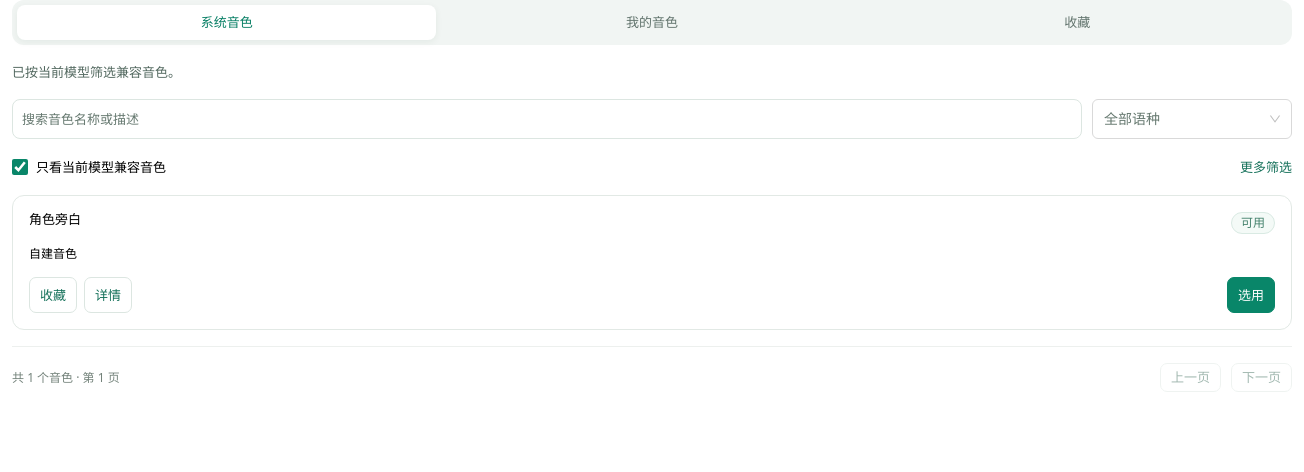
Scenario: 公共音色库业务交互 › 收藏失败保留列表并显示错误，重试成功后收藏分类按后端结果刷新
Click the button with aria-label "收藏 角色旁白".
click(53, 295)  # box [29, 277, 77, 313]
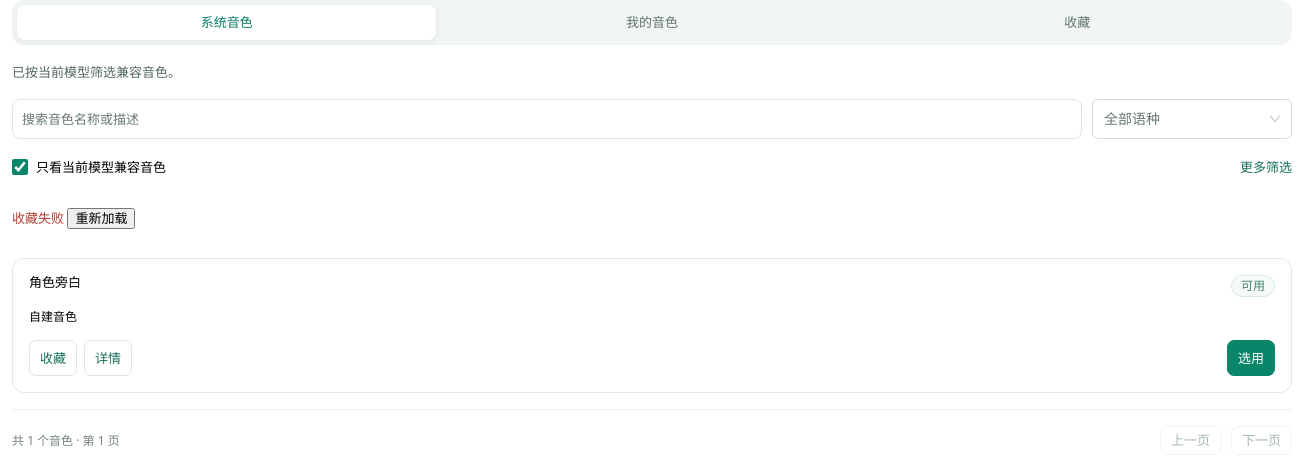
Expected: the button "选用" is shown, [1227, 340, 1275, 376]
Expected: the message shows "收藏失败", [12, 209, 64, 227]
Click the button with aria-label "收藏 角色旁白".
click(53, 358)  # box [29, 340, 77, 376]
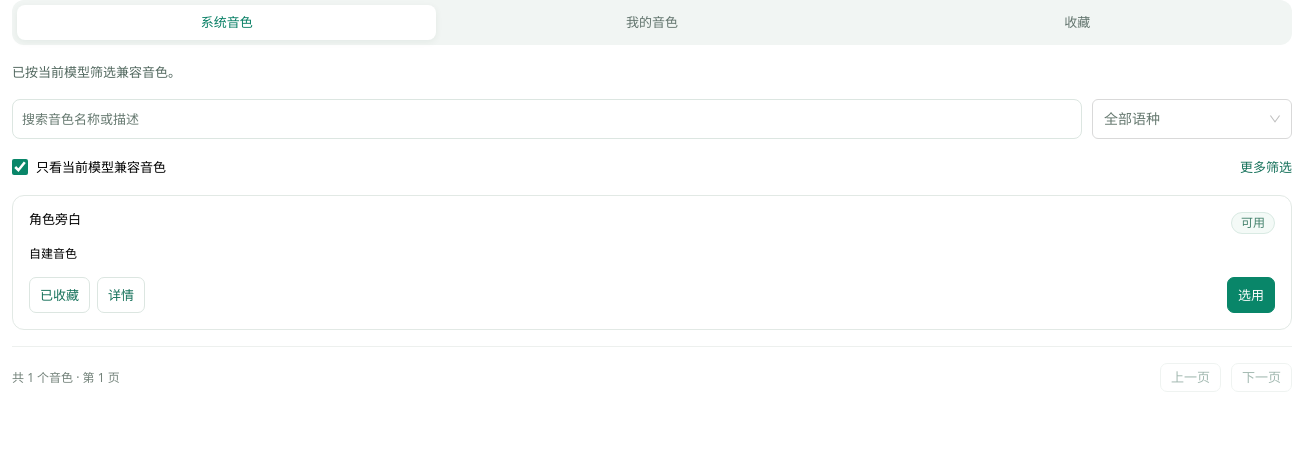
Expected: the button with aria-label "取消收藏 角色旁白" is shown, [29, 277, 90, 313]
Click the button "收藏".
click(1077, 22)  # box [868, 5, 1287, 40]
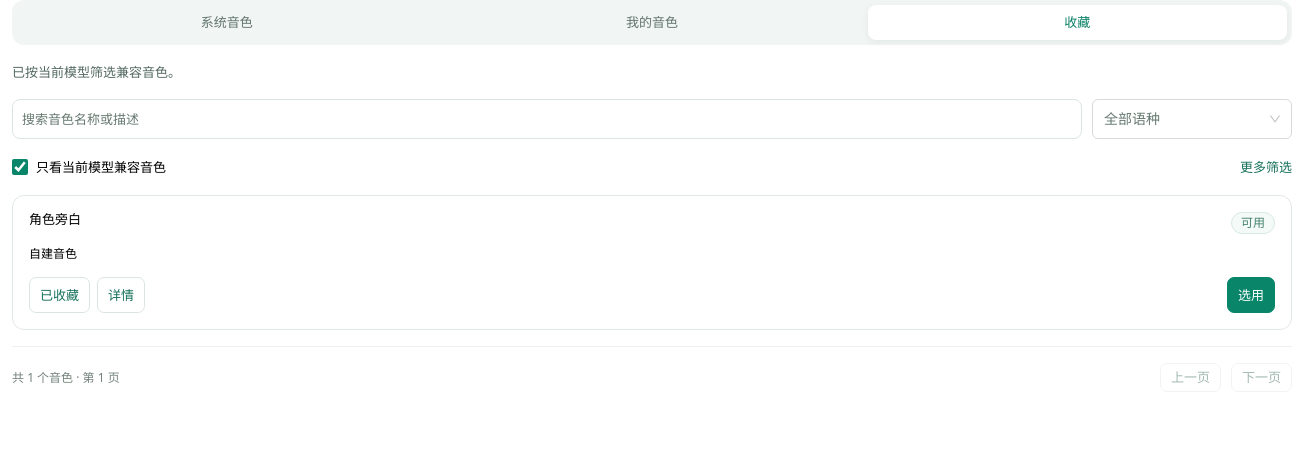
Click the button with aria-label "取消收藏 角色旁白".
click(60, 295)  # box [29, 277, 90, 313]
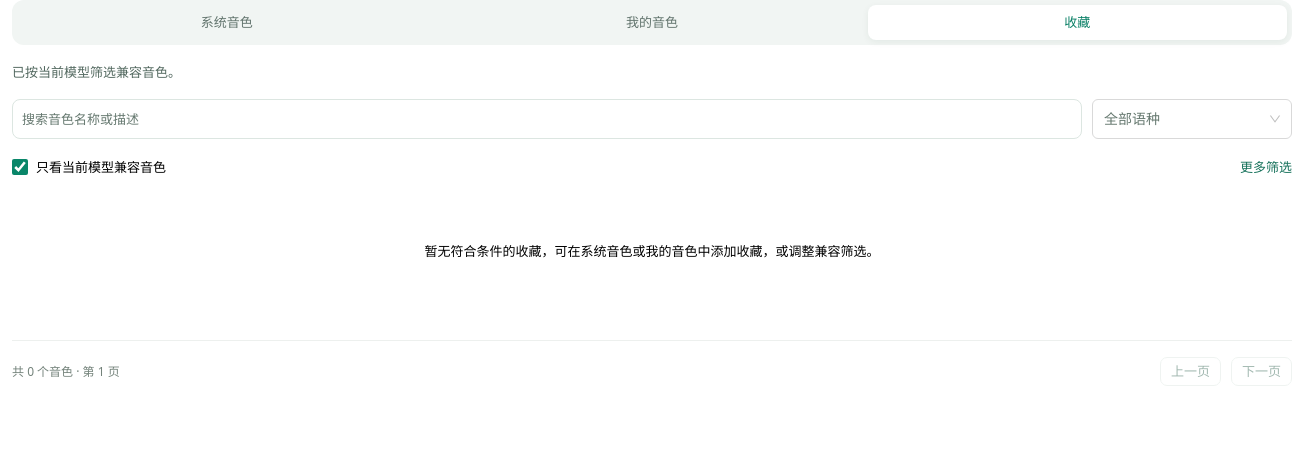
Expected: the text "暂无符合条件的收藏，可在系统音色或我的音色中添加收藏，或调整兼容筛选。" is shown, [424, 242, 880, 260]
